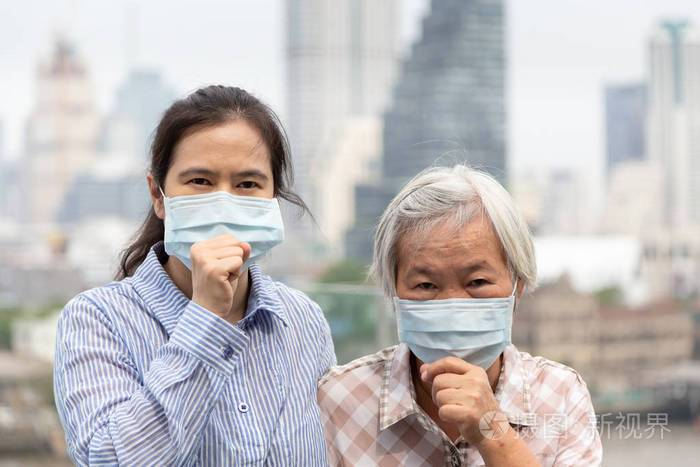mask: (385, 181, 523, 380), (164, 98, 283, 274)
